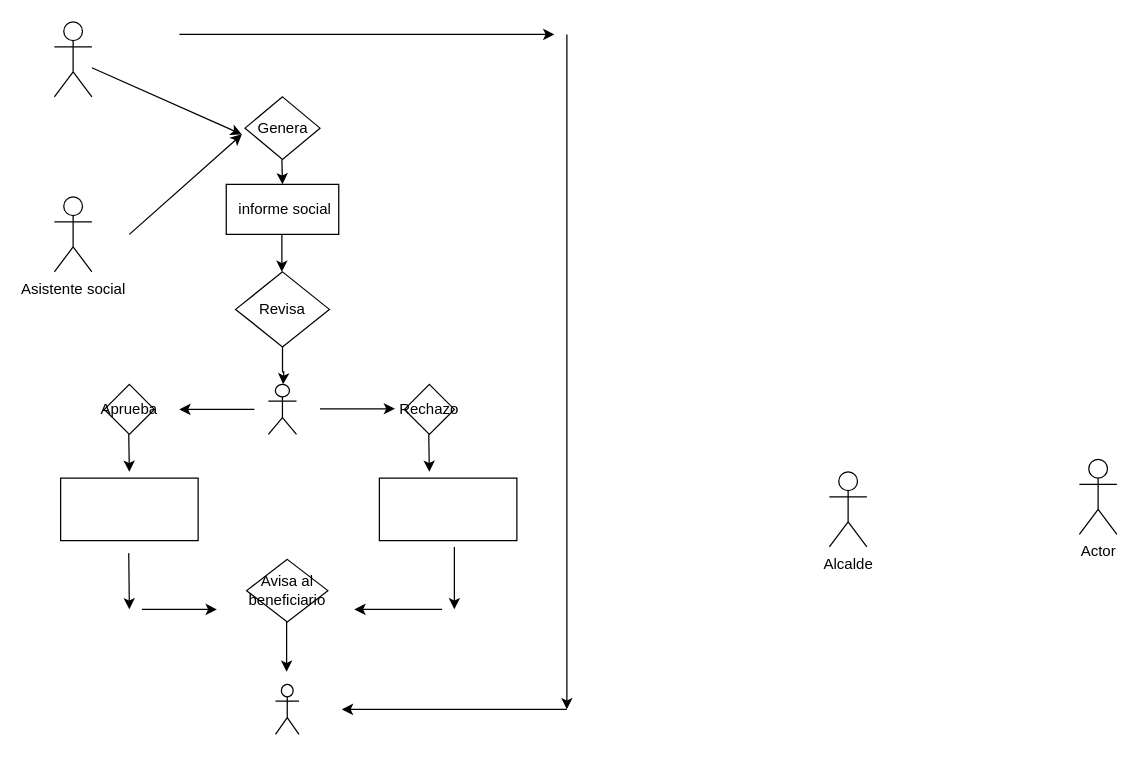
Image size: 1139x783. Some labels were removed from this diagram. The centre of each missing label's shape, as x and y in pixels:
Alcalde aprueba la orden y notifica la aprobación: (x=128, y=509)
Beneficiario: (x=72, y=59)
Jefe de administración: (x=281, y=408)
Se manda notificación de rechazo: (x=447, y=509)
Secretaria: (x=286, y=708)
